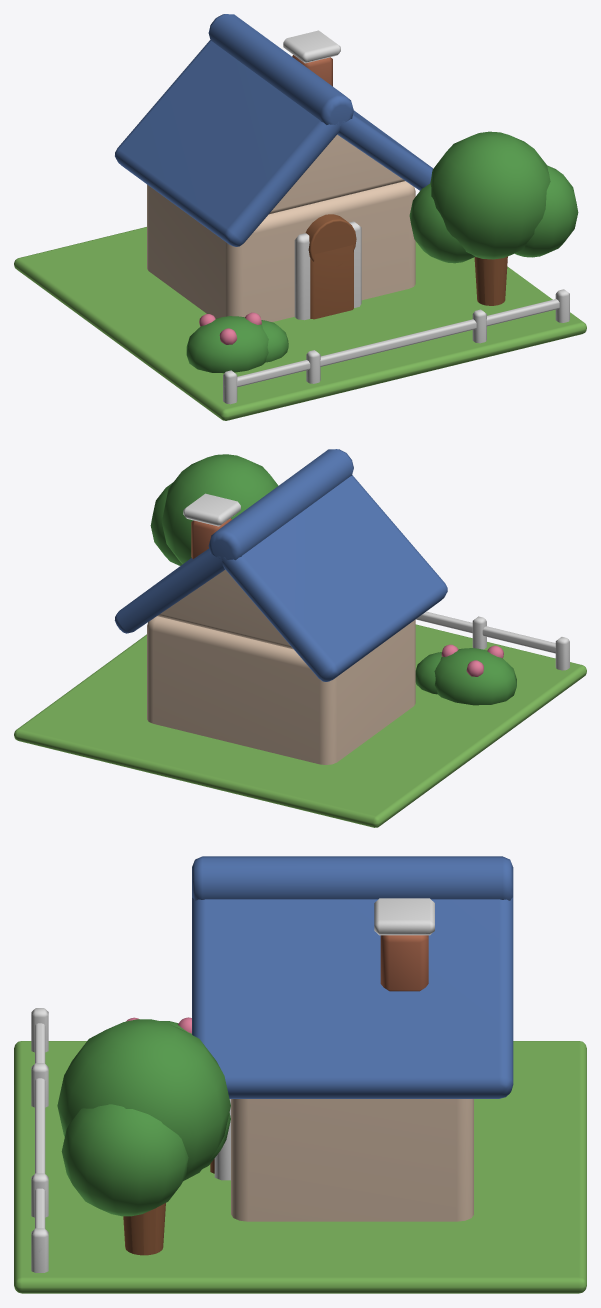
The picture shows the model from 3 angles, top to bottom: view 1: azimuth 30°, elevation 25°; view 2: azimuth 150°, elevation 25°; view 3: azimuth 270°, elevation 25°; orthographic projection. The views are drawn at different scales.
Parts seen in each view (by area): view 1: Cube; view 2: Cube; view 3: Cube.
Part boxes in pixels (bbox=[...]): Cube: bbox=[14, 14, 586, 420]; Cube: bbox=[14, 449, 586, 827]; Cube: bbox=[14, 856, 586, 1293].
Size of the model in its own units: 0.7031 by 0.414 by 0.66.
